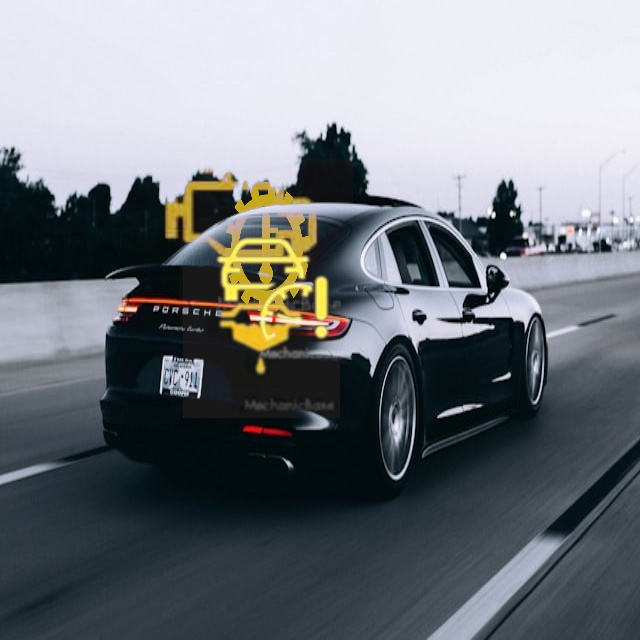symbol: (130, 102, 350, 322), (180, 159, 353, 332), (183, 261, 340, 418), (199, 217, 346, 364)
